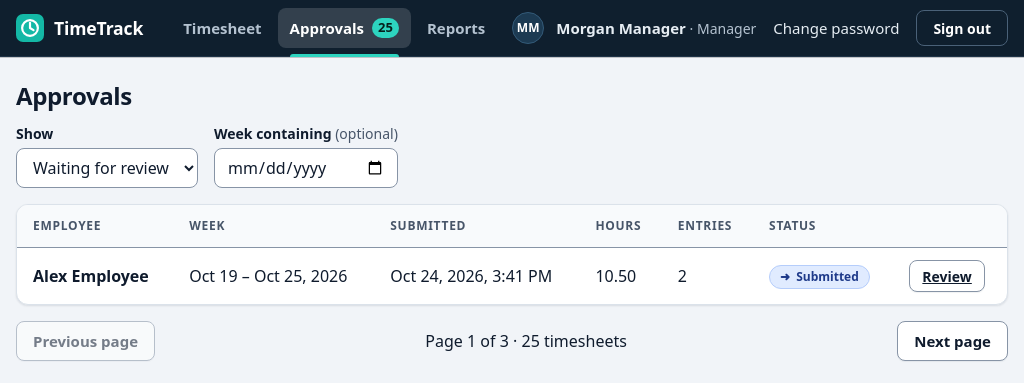
Test case: approvals list › pages through the results
The width and height of the screenshot is (1024, 383).
Expected: the text "Page 1 of 3 · 25 timesheets" is shown, [425,329,627,353]
Expected: the button "Previous page" is disabled, [16,321,155,361]
Click the button "Next page" at (953, 341), box [897,321,1008,361]
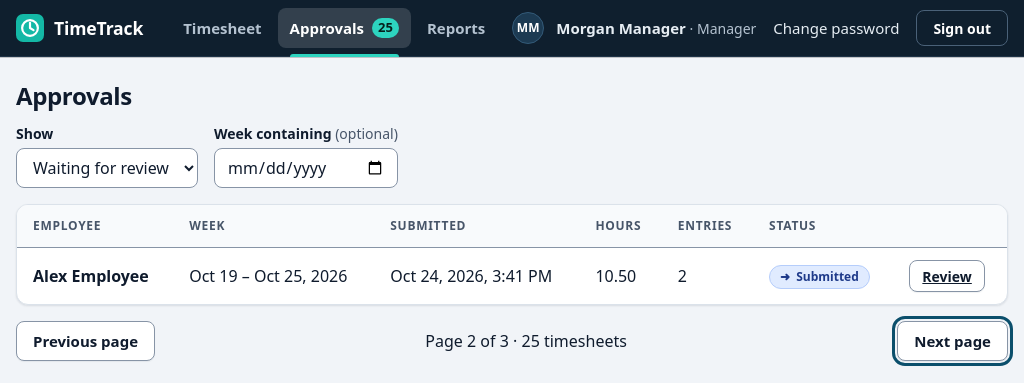
Now the text "Page 2 of 3 · 25 timesheets" is shown, box [425,329,627,353]
Now the button "Previous page" is enabled, box [16,321,155,361]
Click the button "Next page" at (953, 341), box [897,321,1008,361]
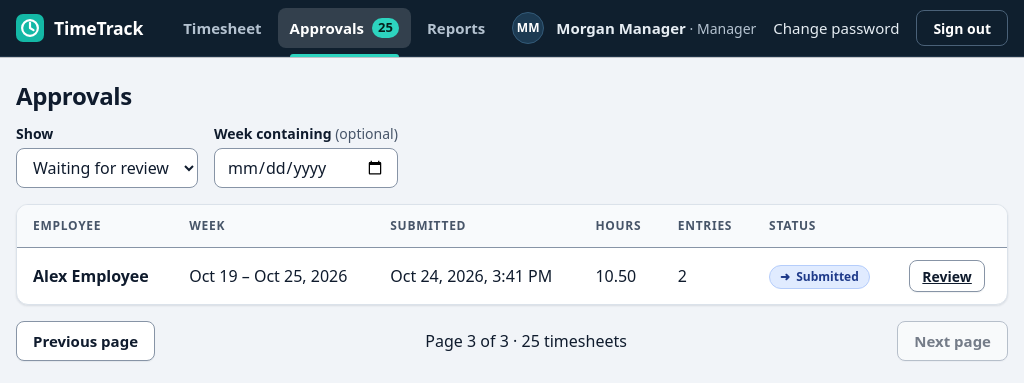
Now the text "Page 3 of 3 · 25 timesheets" is shown, box [425,329,627,353]
Now the button "Next page" is disabled, box [897,321,1008,361]
